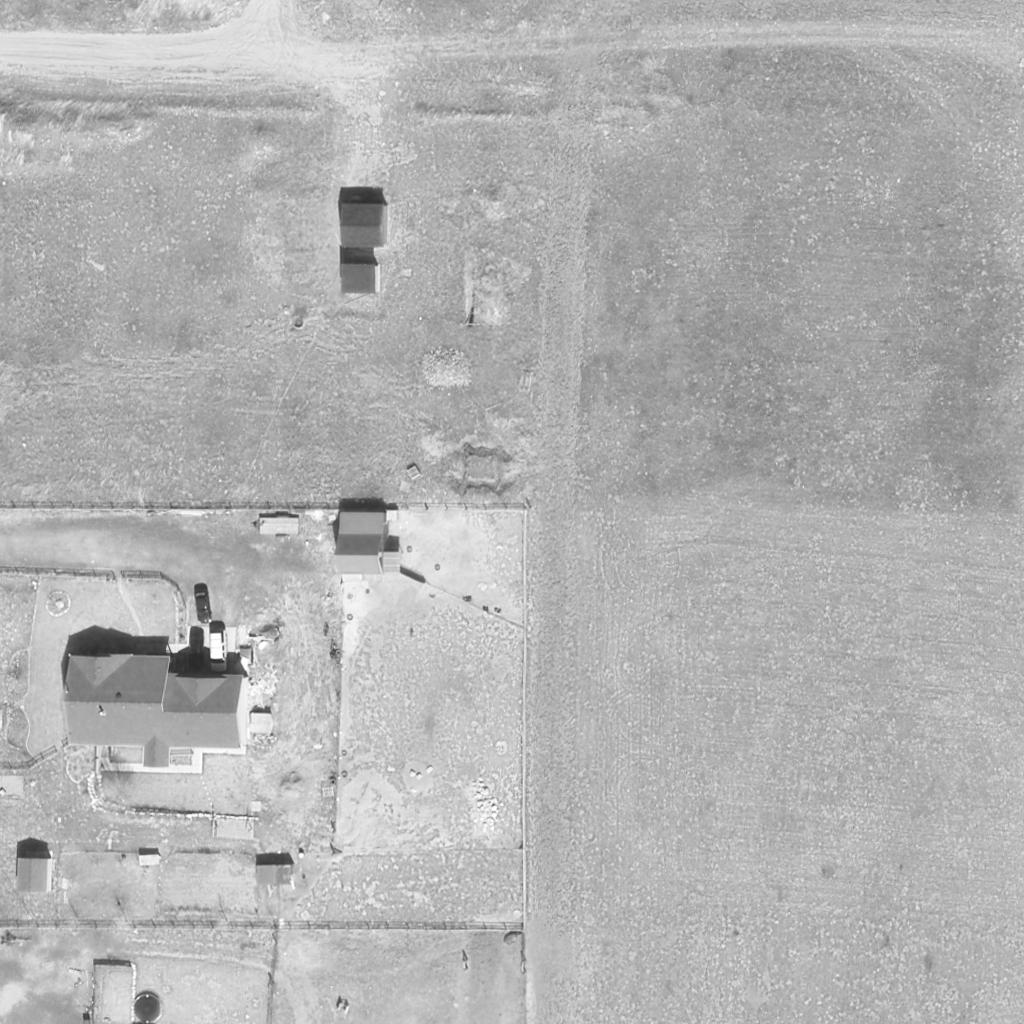vehicle: (187, 628, 207, 670), (210, 630, 228, 672), (193, 589, 213, 623)
